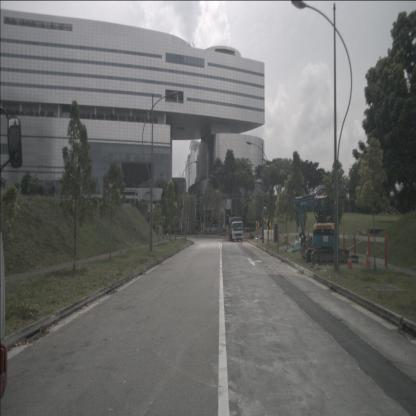movable_object-barrier: (262, 229, 274, 240)
movable_object-trafficcone: (346, 250, 354, 270), (365, 247, 371, 270)
vehicle-truck: (226, 217, 244, 242)
